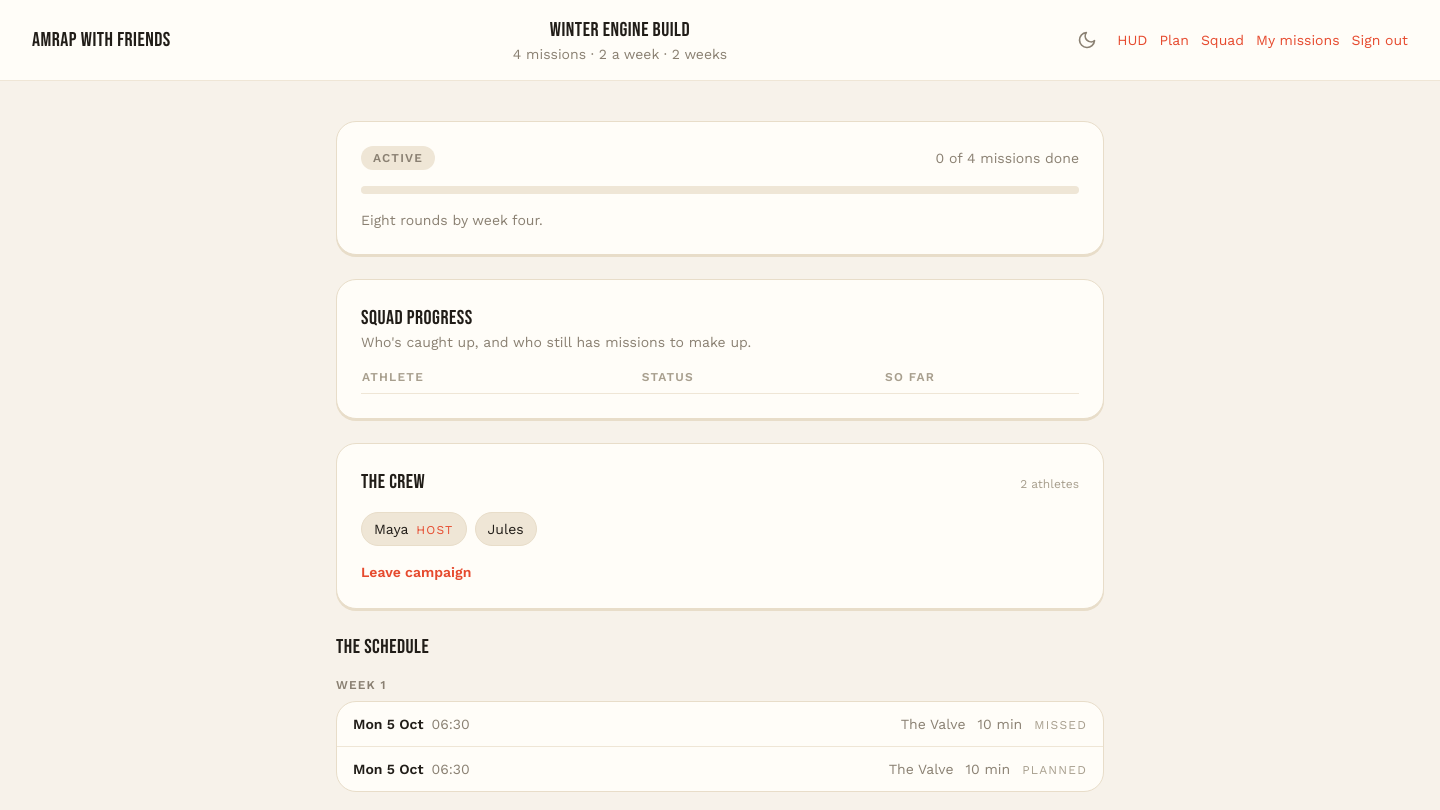
Test case: CampaignDetailPage › surfaces a failed leave instead of navigating away
Click the button "Leave campaign": point(416, 572) [361,562,471,582]
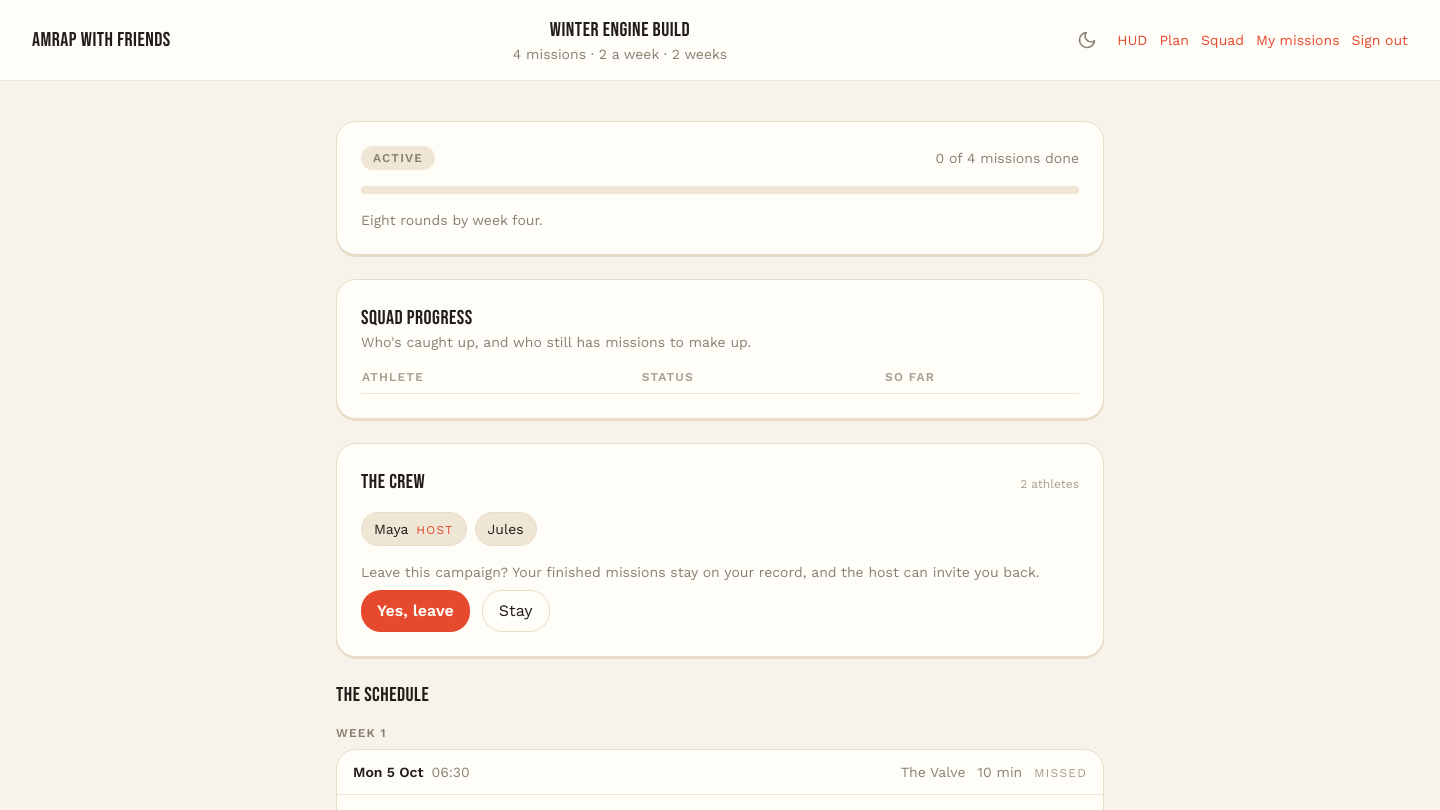
Click the button "Yes, leave": point(415, 611) [361,590,470,632]
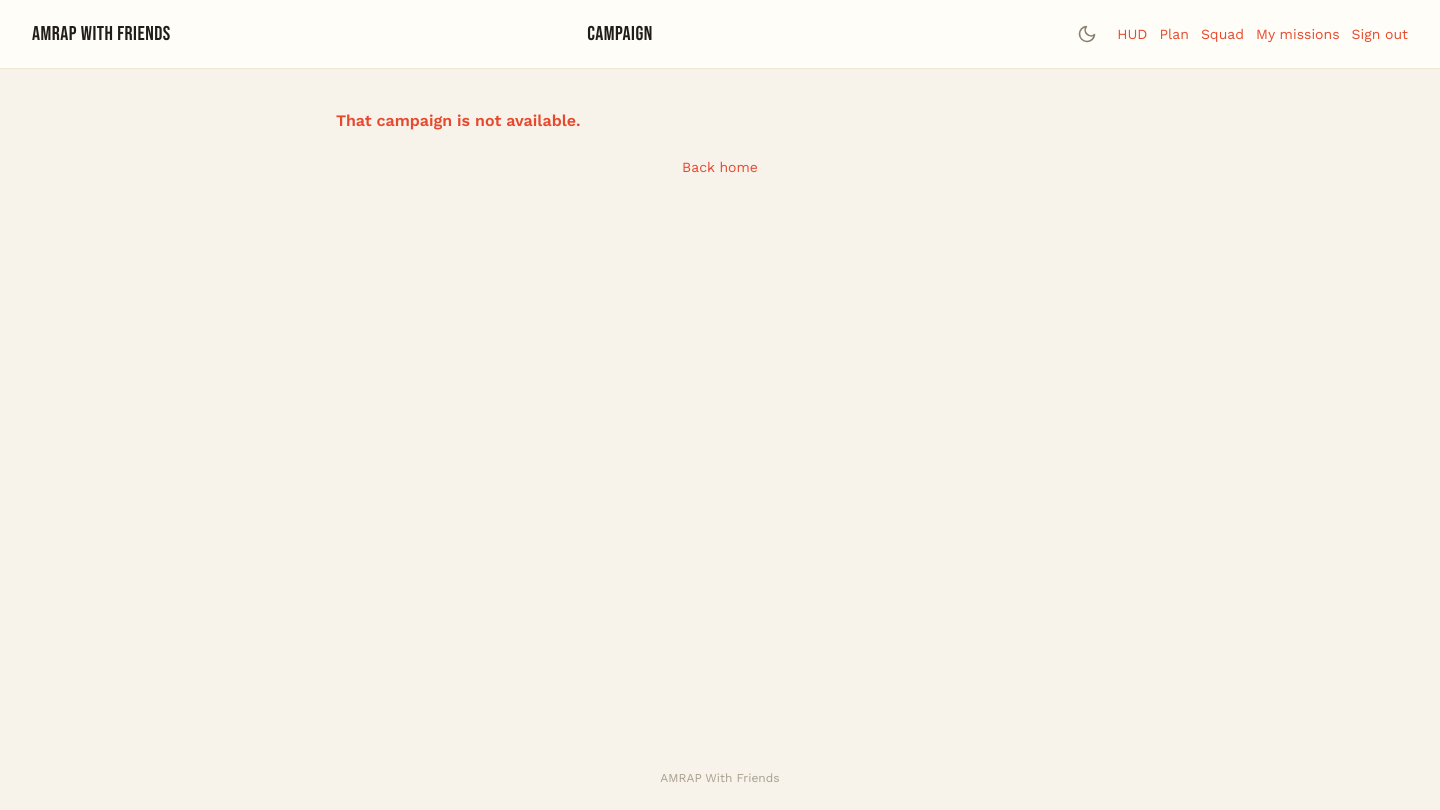
expect the text "That campaign is not available." is shown: met, box [336,111,581,130]
